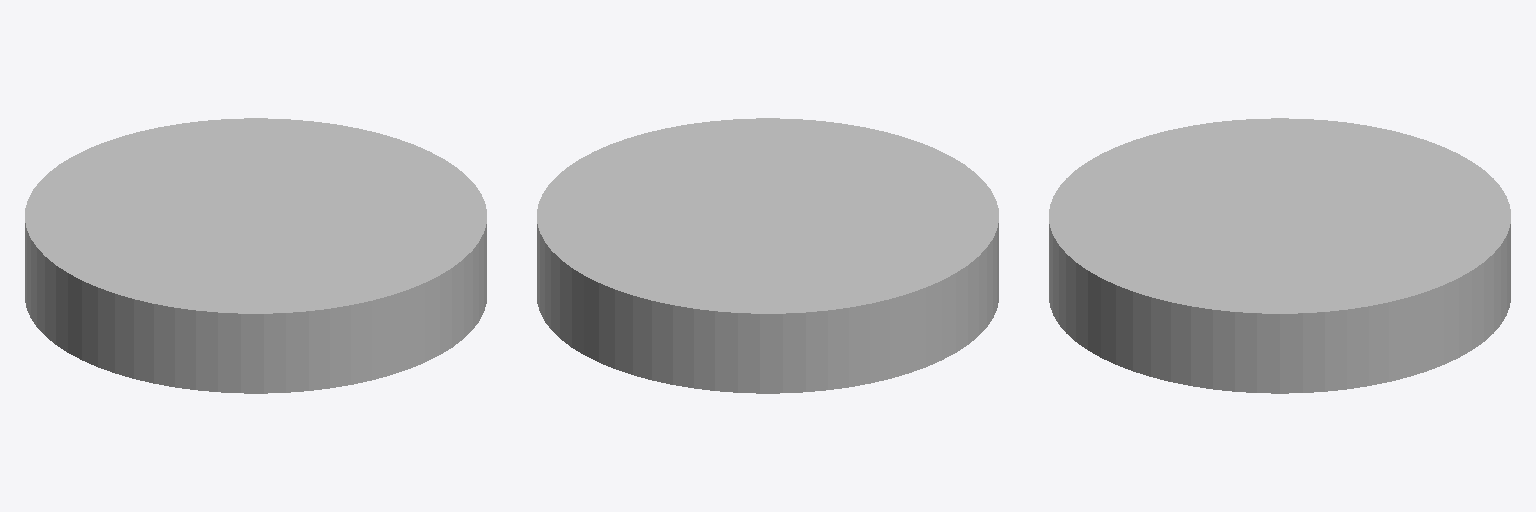
The model's file is Erdkern.obj.
3 views of the same model, side by side, from view 1: azimuth 30°, elevation 25°; view 2: azimuth 150°, elevation 25°; view 3: azimuth 270°, elevation 25° (orthographic).
Parts seen in each view (by area): view 1: Erdkern_Cylinder; view 2: Erdkern_Cylinder; view 3: Erdkern_Cylinder.
Boxes of the visible parts, <box> form: Erdkern_Cylinder: <box>25,118,486,393</box>; Erdkern_Cylinder: <box>537,118,998,393</box>; Erdkern_Cylinder: <box>1049,118,1510,393</box>.
Bounding box in the file's own units: 2 × 0.3807 × 2.